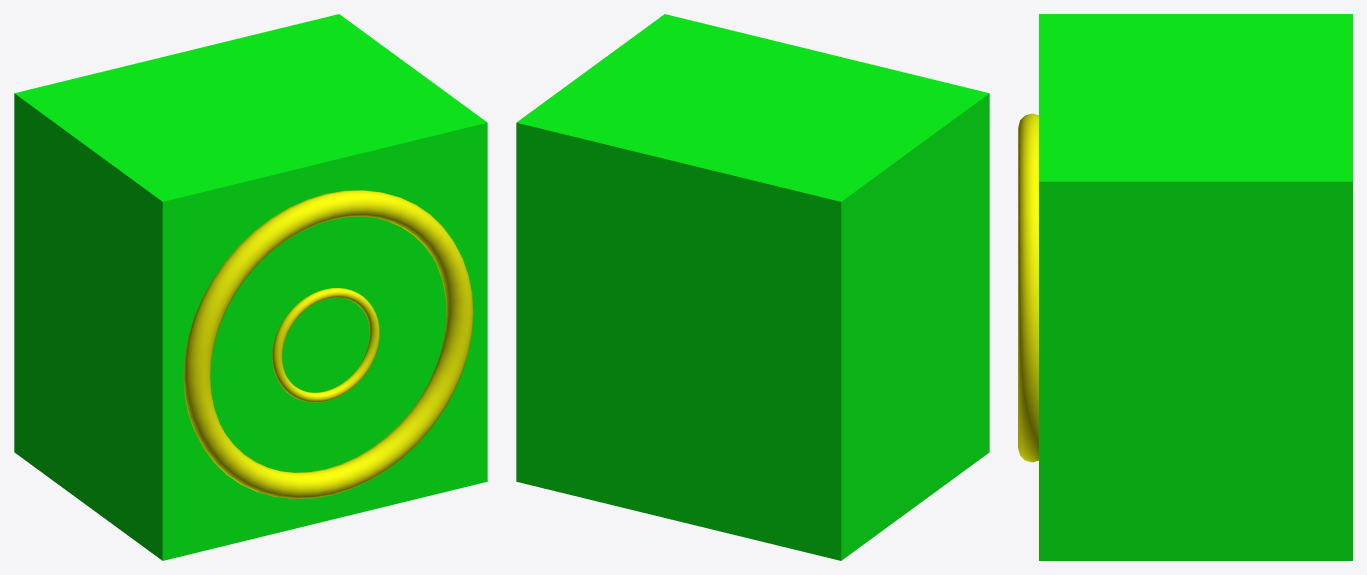
File: SM_SmallBOX.FBX
The picture shows the model from 3 angles, left to right: view 1: azimuth 30°, elevation 25°; view 2: azimuth 150°, elevation 25°; view 3: azimuth 270°, elevation 25°; orthographic projection. The views are drawn at different scales.
Parts seen in each view (by area): view 1: Box004, BigCircles002, SmallCircle; view 2: Box004; view 3: Box004, BigCircles002.
Part boxes in pixels (<box>): Box004: <box>14,14,487,560</box>; BigCircles002: <box>183,190,473,498</box>; SmallCircle: <box>272,288,379,402</box>; Box004: <box>516,14,989,560</box>; Box004: <box>1039,14,1352,560</box>; BigCircles002: <box>1018,113,1038,462</box>.
Bounding box in the file's own units: 34.04 × 35.95 × 28.74.
